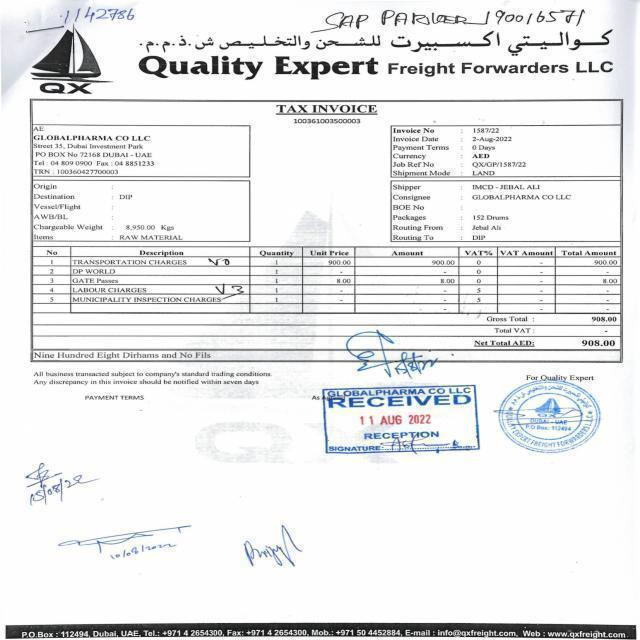paragraph: (301, 384, 490, 467), (138, 52, 620, 84), (135, 29, 629, 56), (389, 184, 577, 243), (33, 182, 211, 241), (495, 372, 614, 459), (387, 117, 553, 178), (32, 123, 211, 176), (308, 5, 592, 34), (22, 28, 130, 98), (56, 518, 209, 565), (469, 315, 620, 358), (337, 327, 444, 382), (235, 512, 311, 589), (11, 459, 102, 513), (33, 370, 276, 387), (30, 347, 216, 361), (54, 3, 142, 25), (276, 101, 384, 115), (81, 392, 150, 410), (291, 117, 363, 126)
table: (30, 246, 624, 314)
